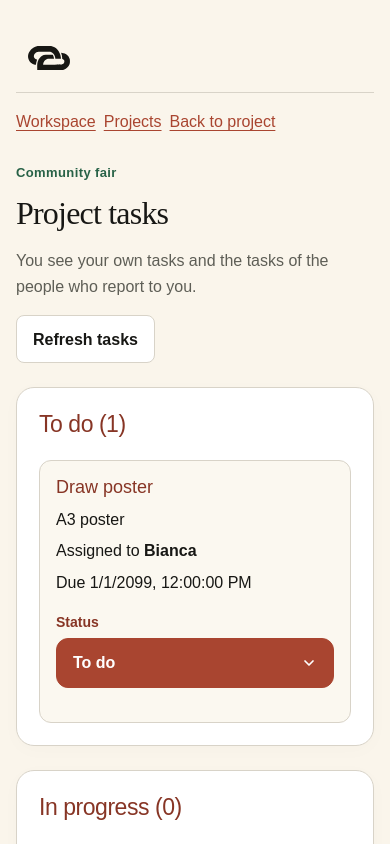
project tasks › lets a member change the status of their own task without manager controls
Expected: the heading "Draw poster" is shown, left=56, top=477, right=153, bottom=497
Select "In progress" in the dropdown labelled "Status" at (195, 663), box left=56, top=638, right=334, bottom=688
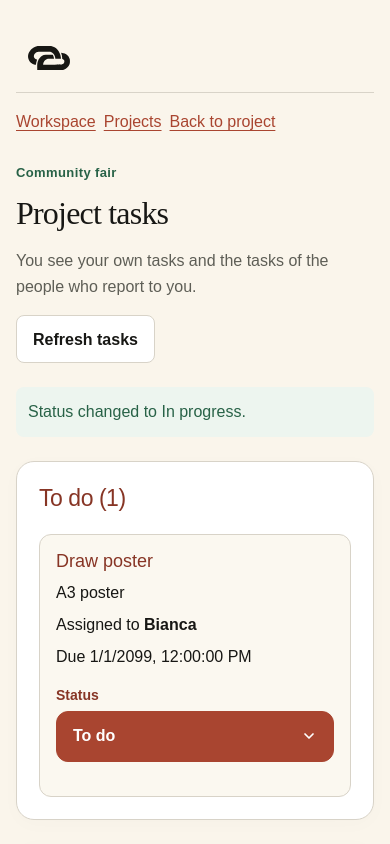
Now the text "Status changed to In progress." is shown, box left=16, top=387, right=374, bottom=437
